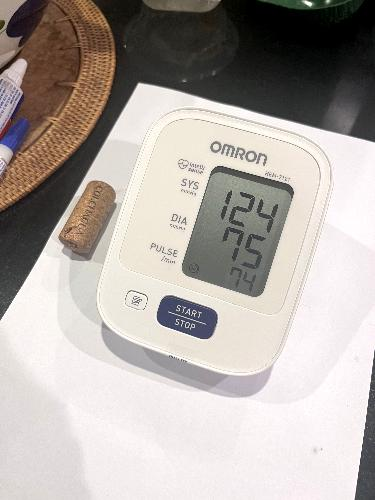bpm: (175, 157, 301, 302)
